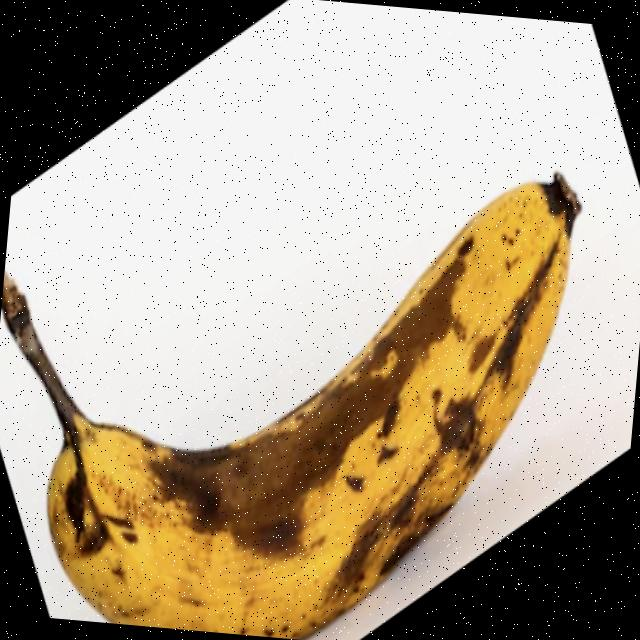overripe: (0, 117, 589, 640)
